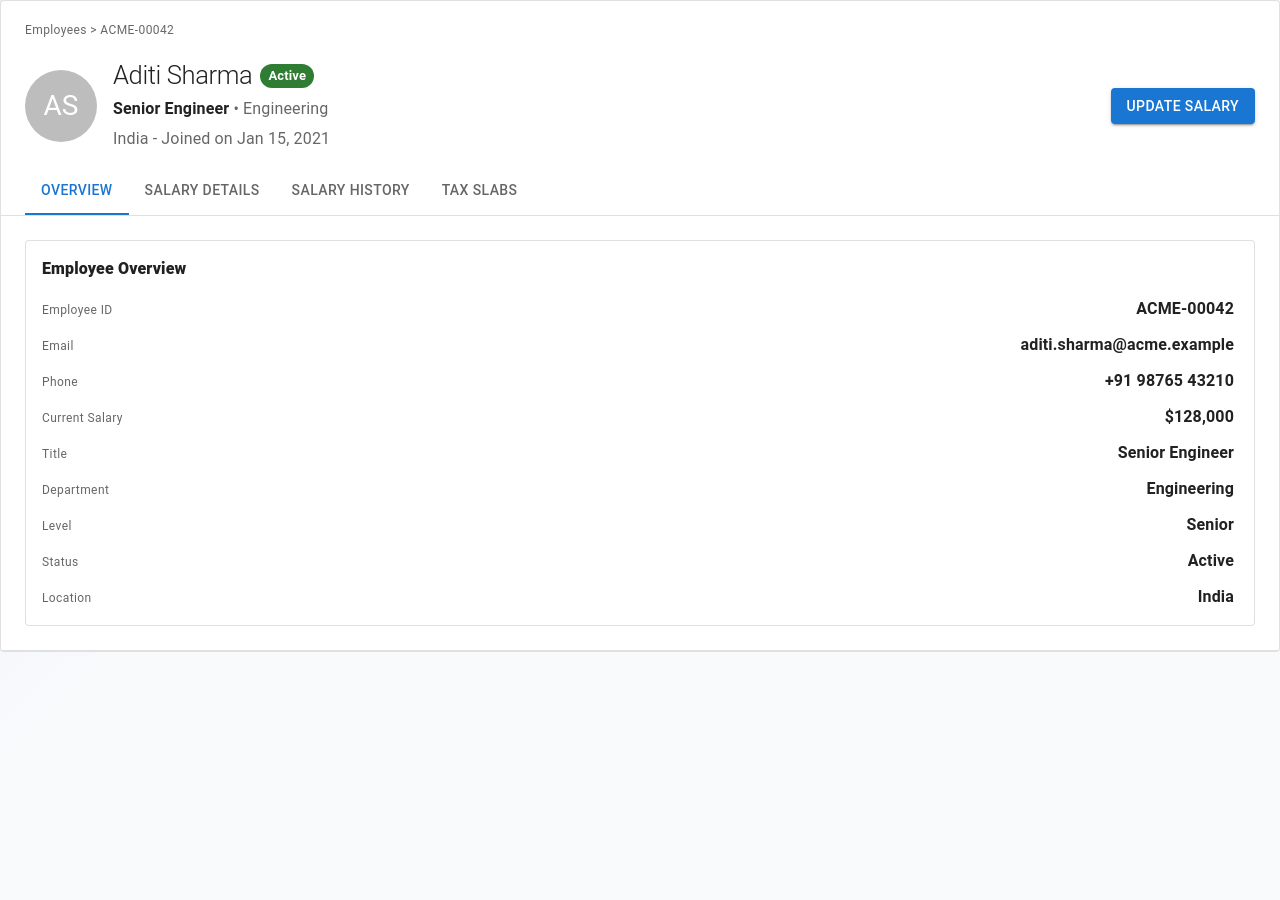
it: EmployeeProfile › closes the update salary popup after saving
Click the button "Update Salary" at (1183, 106), box [1110,88,1255,124]
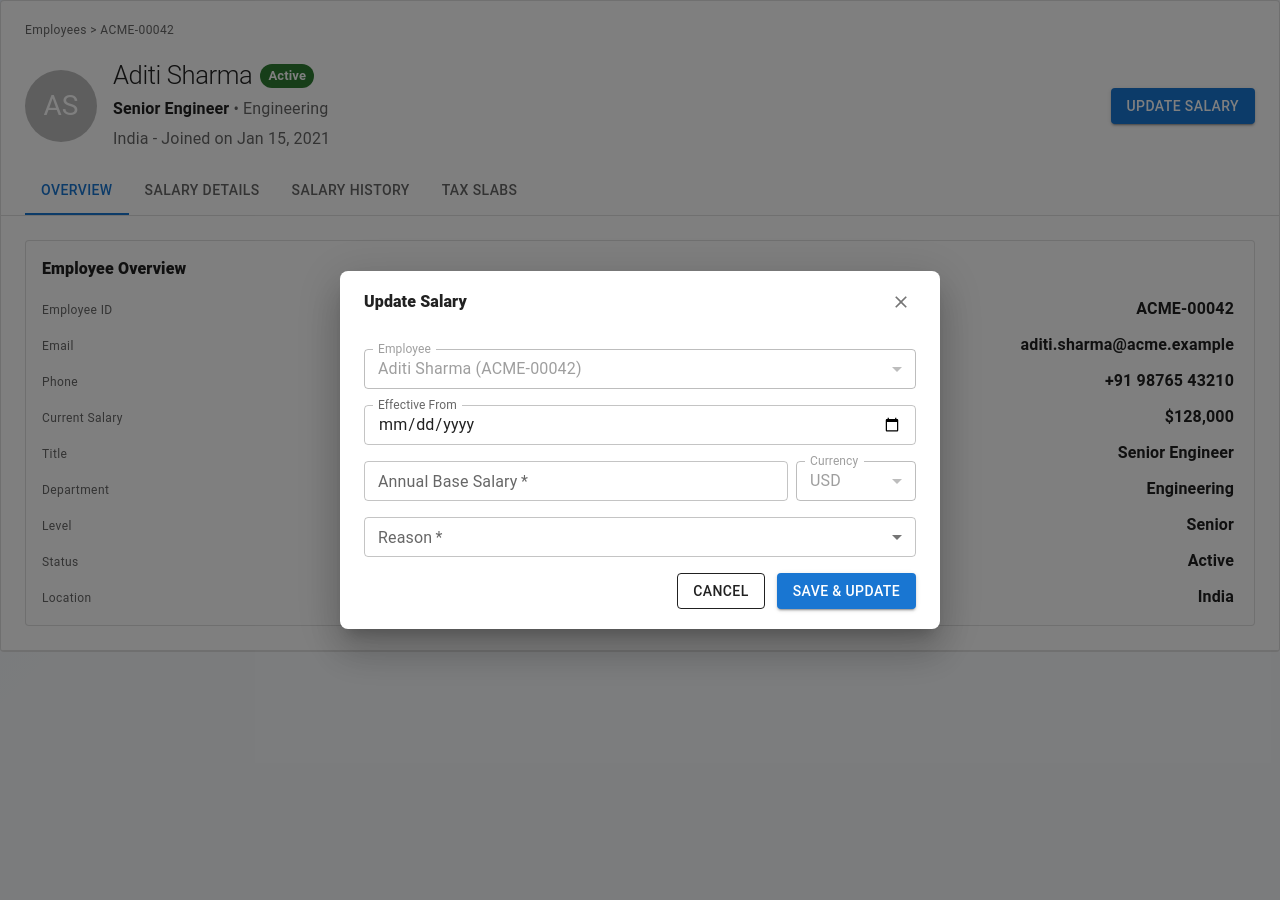
Type "132000" into the number field labelled "Annual Base Salary *" at (576, 481), box [364,461,788,501]
Click the dropdown named "Reason" at (640, 537), box [364,517,916,557]
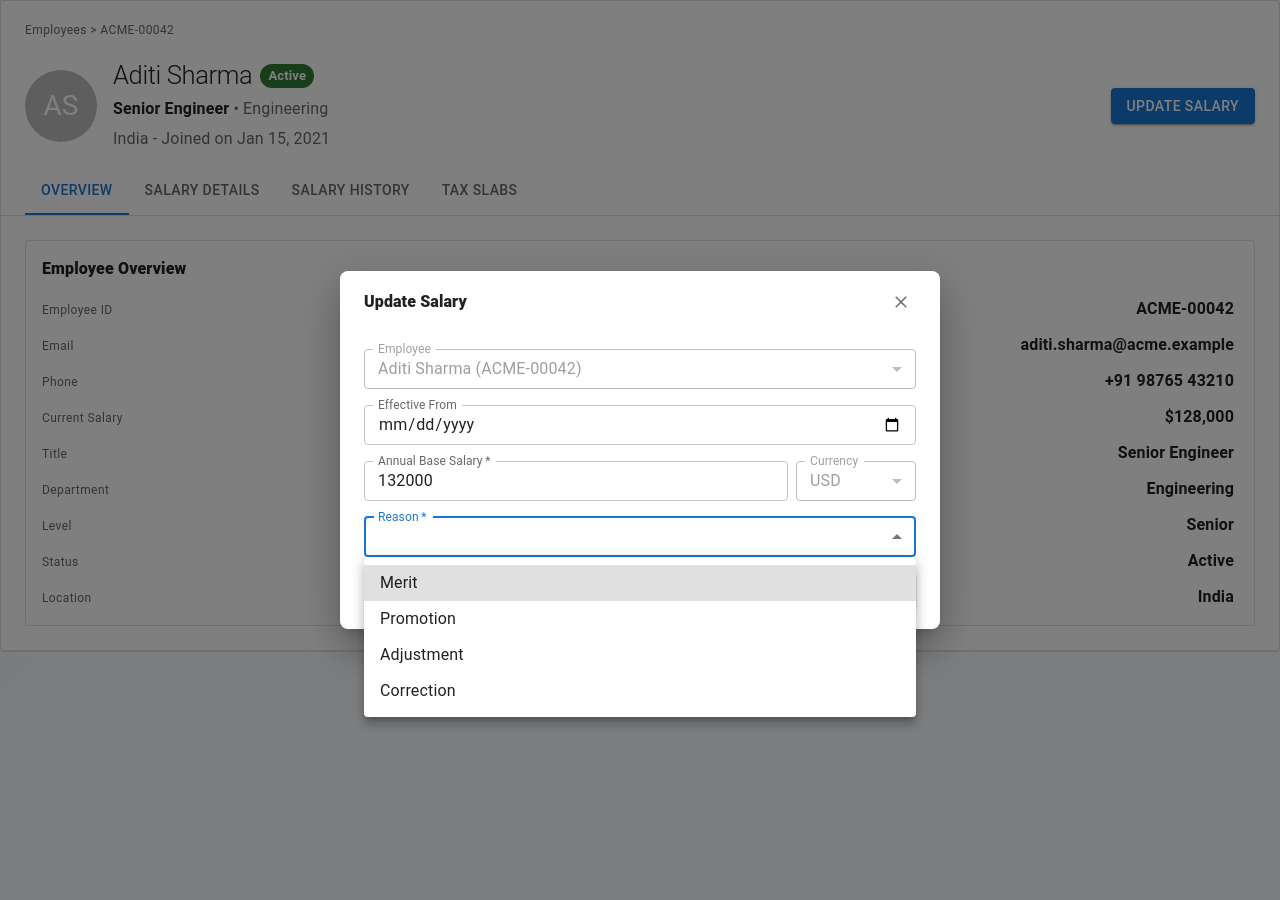
Click the option "Merit" at (399, 582), box [364,565,916,601]
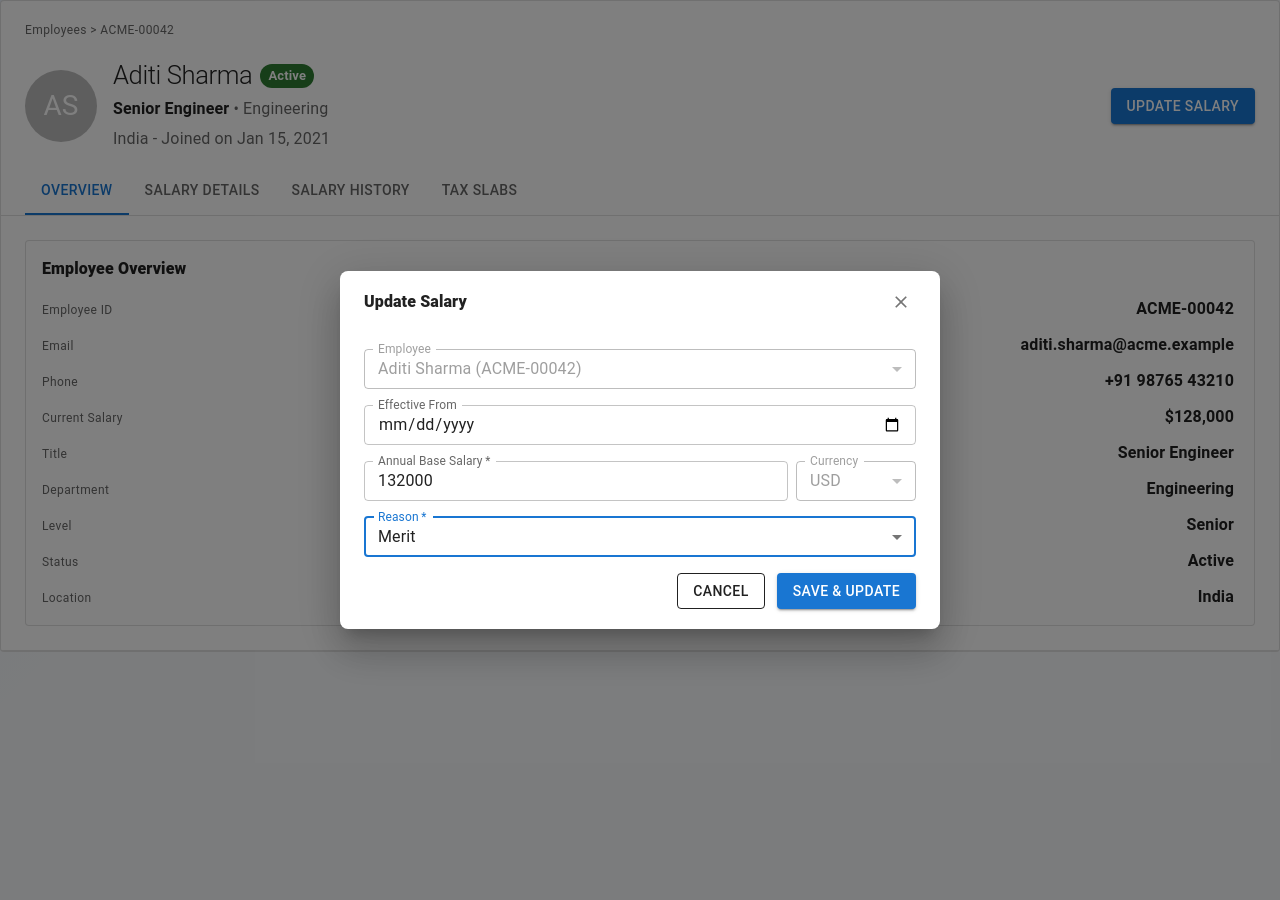
Type "2026-04-01" into the date field labelled "Effective From" at (640, 425), box [364,405,916,445]
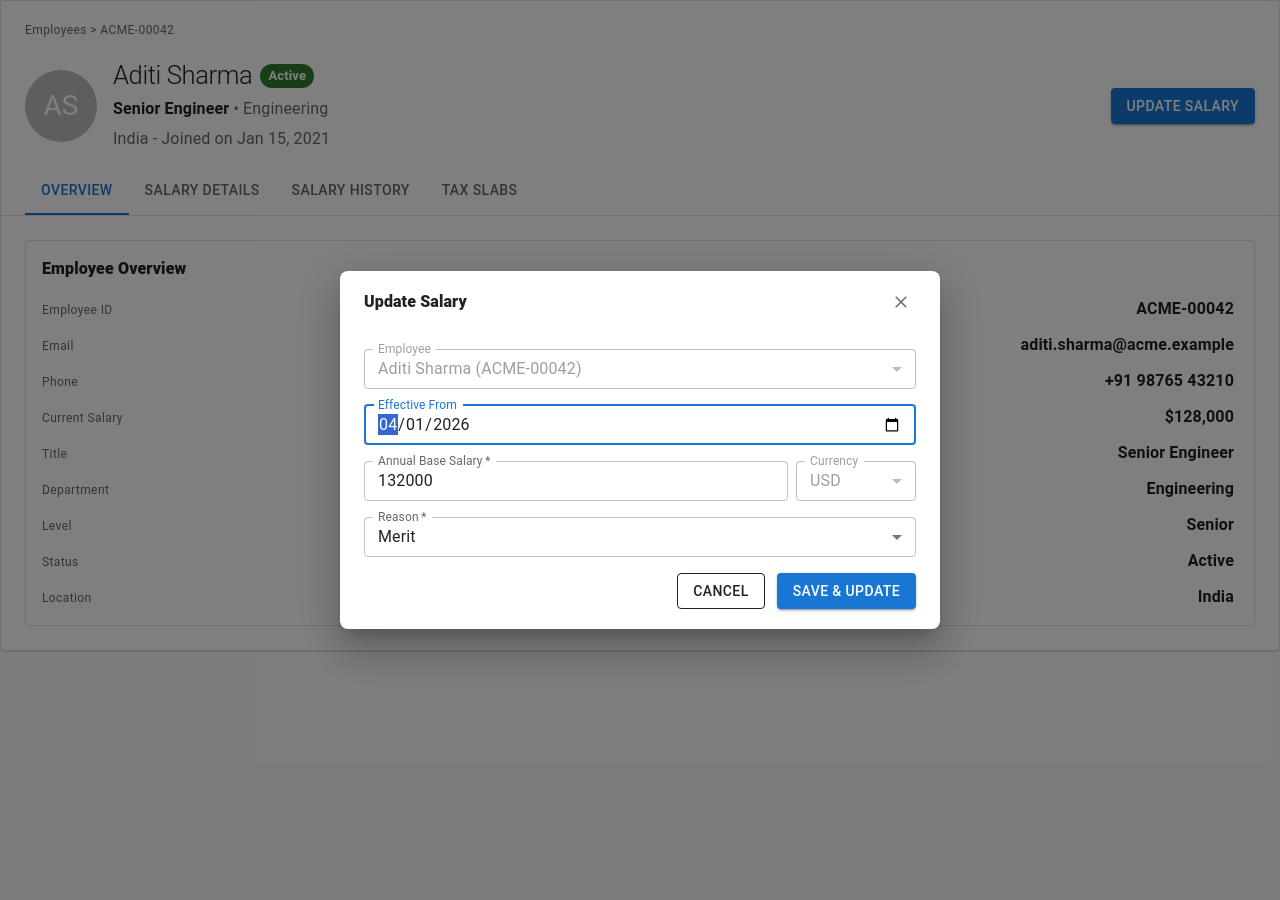
Click the button "Save & Update" at (846, 591), box [777,573,916,609]
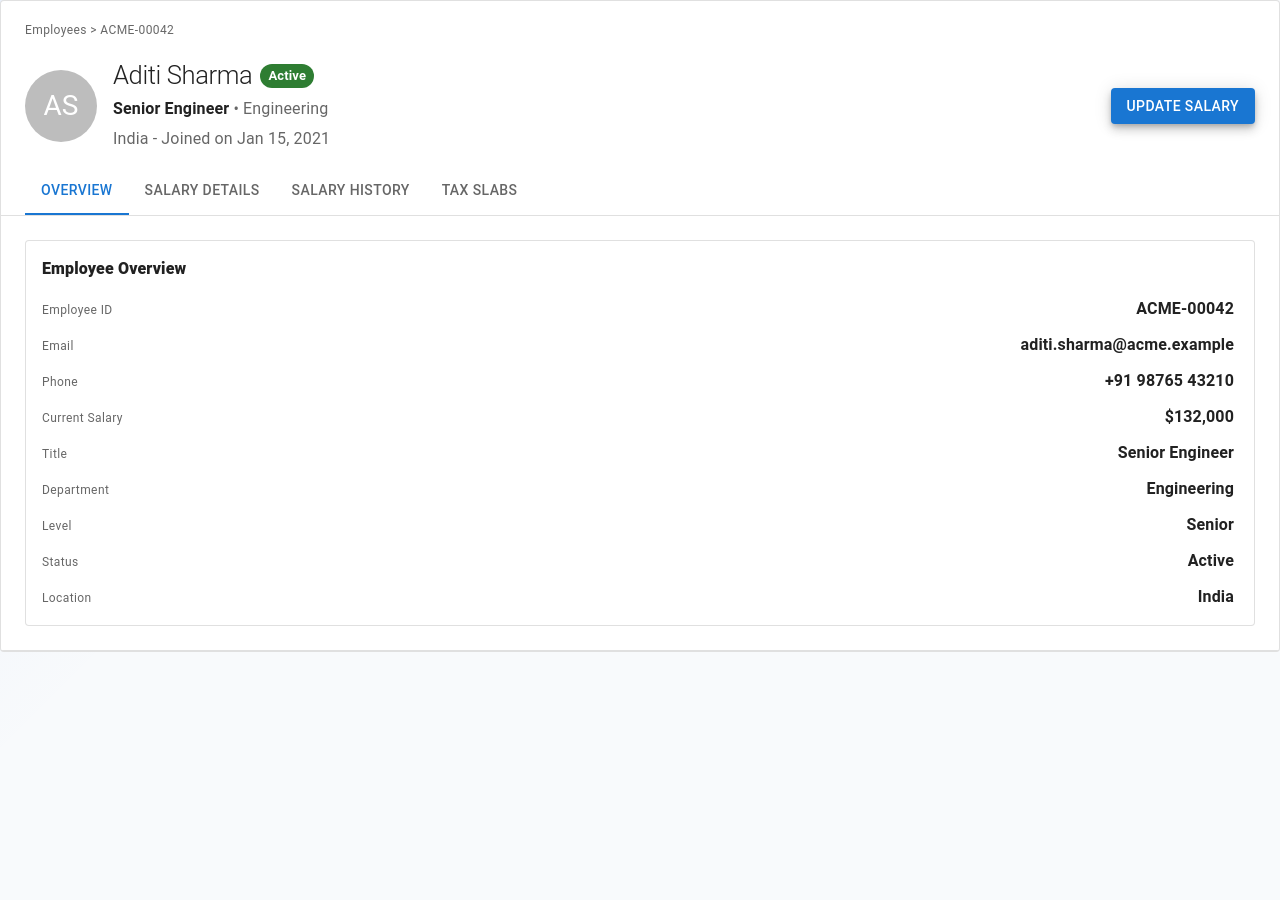
Expected: the dialog is gone
Expected: the text "$132,000" is shown, [1165,405,1234,429]
Click the tab "Salary History" at (351, 191), box [276,167,426,215]
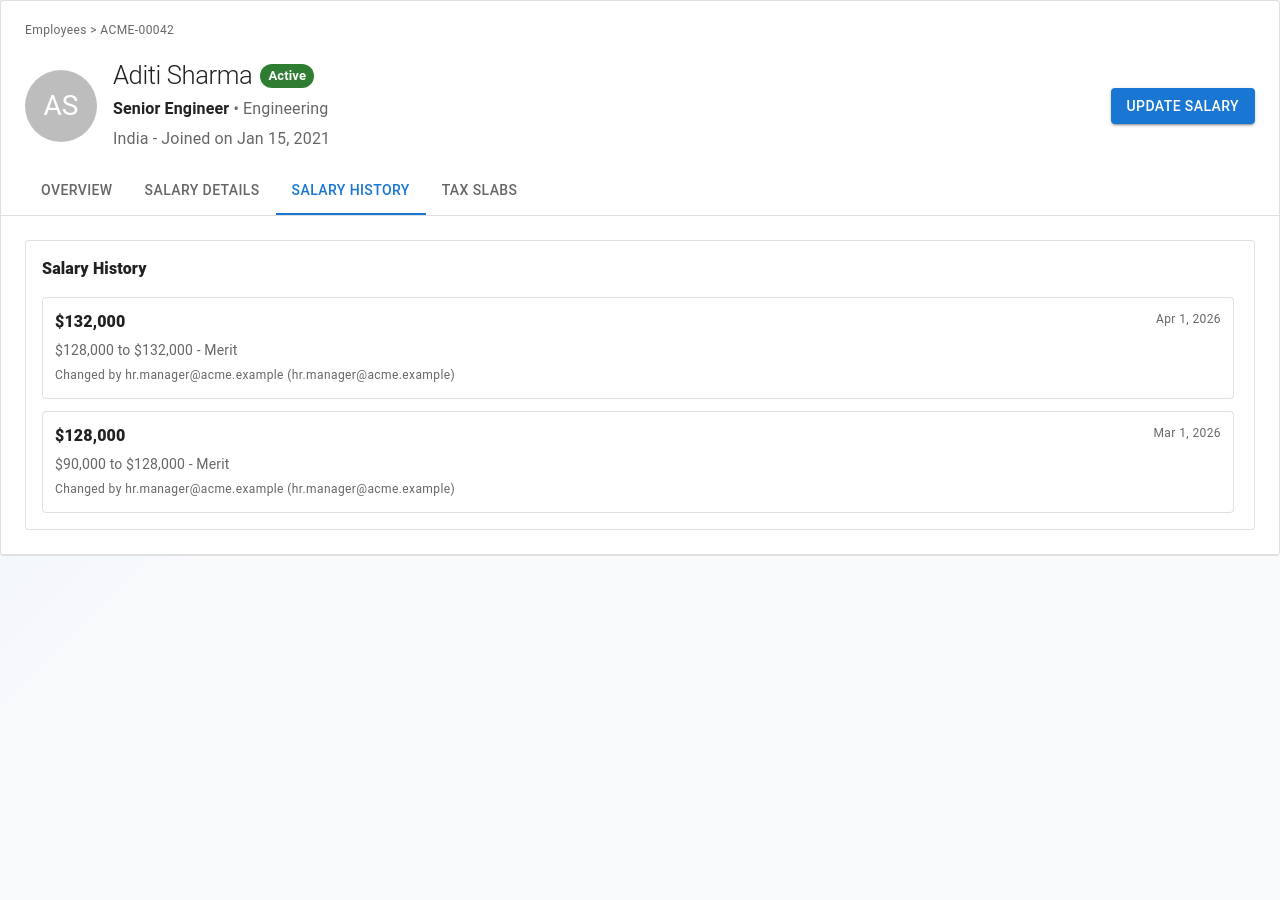
Expected: the text "$128,000 to $132,000 - Merit" is shown, [55,342,238,358]
